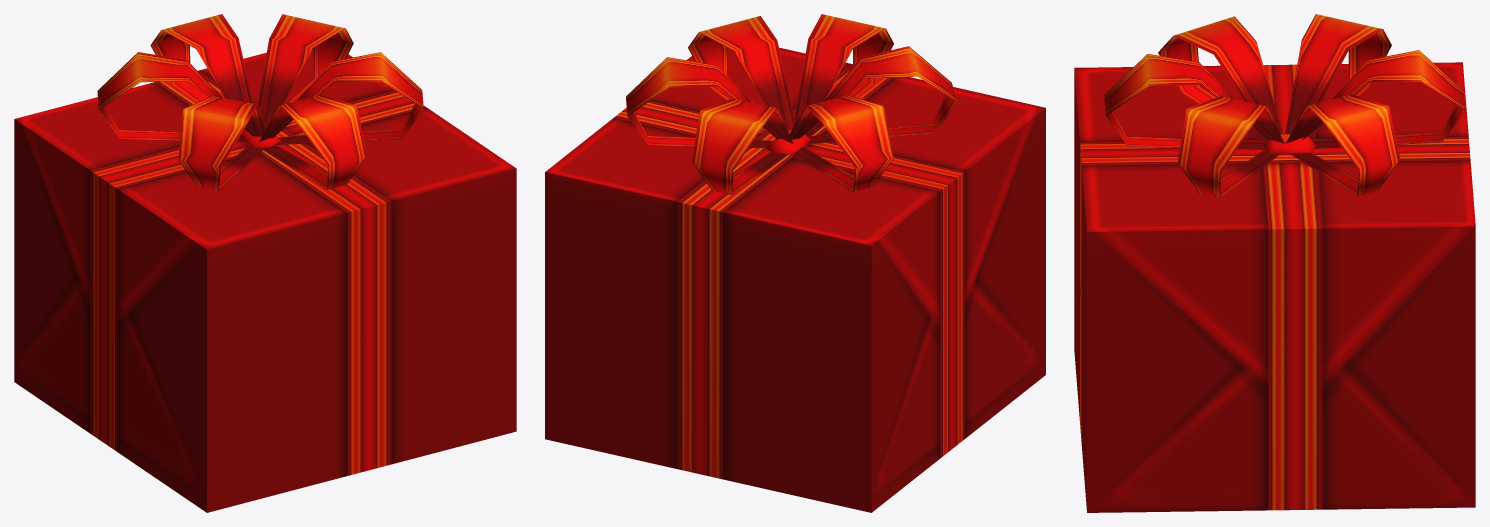
File: Gift6.FBX
3 renders of one model, left to right at view 1: azimuth 30°, elevation 25°; view 2: azimuth 150°, elevation 25°; view 3: azimuth 270°, elevation 25°, orthographic. The views are drawn at different scales.
Parts seen in each view (by area): view 1: Gift6; view 2: Gift6; view 3: Gift6.
Boxes of the visible parts, box(x1,y1,x2,y2) form: Gift6: box(14, 14, 516, 512); Gift6: box(545, 14, 1045, 512); Gift6: box(1074, 14, 1475, 512).
Size of the model in its own units: 13.52 by 13.34 by 13.52.
1 material, 1 textured.
